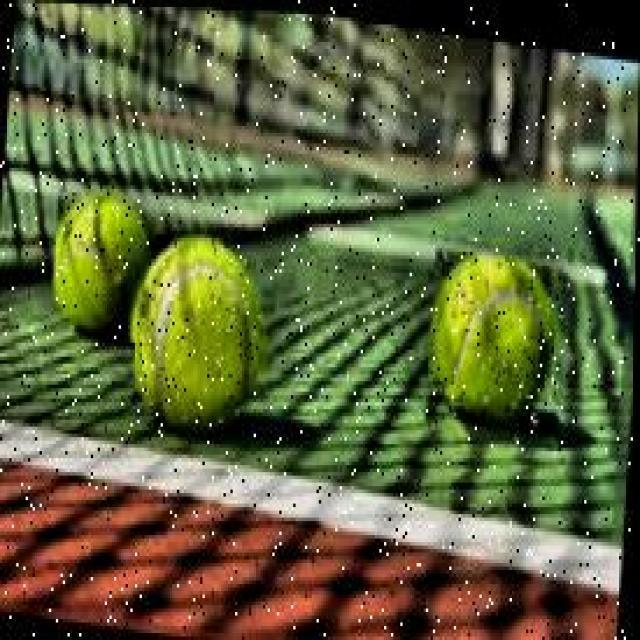tennis-ball: (132, 229, 278, 442), (427, 245, 576, 448), (51, 188, 158, 346)
